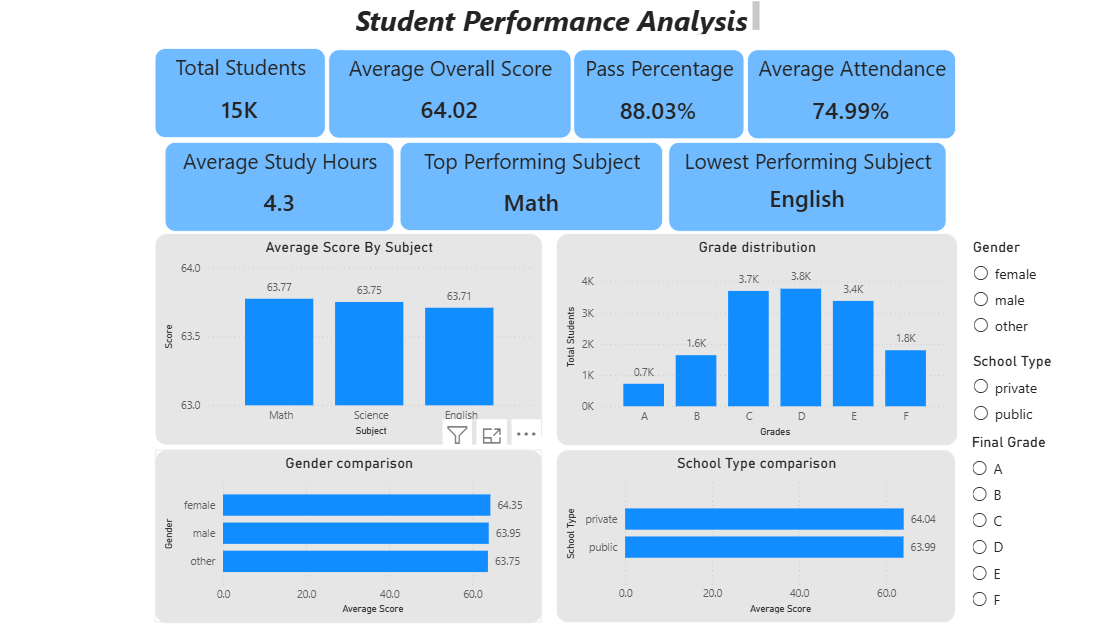

This screenshot's page, from the dashboard's own definition file:
{"tool":"powerbi","page":{"name":"Main Overview","canvas":[1280,720],"ordinal":0},"visuals":[{"type":"textbox","box":[402,0,476.1,47],"z":0},{"type":"group","id":"g1","title":"Group 1","box":[182,58,916,210],"z":1000},{"type":"cardVisual","title":"Total Students","fields":{"Data":["Student_Performance.Total_students"]},"box":[182,58,194.9,102.6],"z":1000,"group":"g1"},{"type":"cardVisual","title":"Average Overall Score","fields":{"Data":["Student_Performance.average_overall_score"]},"box":[380.3,59.2,277.4,101.4],"z":2000,"group":"g1"},{"type":"columnChart","title":"Average Score By Subject","fields":{"Y":["Student_Performance_pivot.average_subject_score"],"Category":["Student_Performance_pivot.subject"]},"box":[181.1,270,443.3,242.2],"z":2000},{"type":"cardVisual","title":"Pass Percentage","fields":{"Data":["Student_Performance.pass_percentage"]},"box":[661,59.2,194.9,102],"z":3000,"group":"g1"},{"type":"columnChart","title":"Grade distribution","fields":{"Category":["Student_Performance.final_grade"],"Y":["Student_Performance.Total_students"]},"box":[640,270,458.9,243.3],"z":3000},{"type":"cardVisual","title":"Average Attendance","fields":{"Data":["Student_Performance.average_attendance"]},"box":[859.3,59.2,238.7,102.6],"z":4000,"group":"g1"},{"type":"clusteredBarChart","title":"Gender comparison","fields":{"Category":["Student_Performance.gender"],"Y":["Student_Performance.average_overall_score"]},"box":[181.1,516.5,443.3,198.9],"z":4000},{"type":"cardVisual","title":"Average Study Hours","fields":{"Data":["Student_Performance.average_study_hours"]},"box":[193.7,165.4,262.4,102.6],"z":5000,"group":"g1"},{"type":"barChart","title":"School Type comparison","fields":{"Category":["Student_Performance.school_type"],"Y":["Student_Performance.average_overall_score"]},"box":[640,517.1,457.1,198.6],"z":5000},{"type":"cardVisual","title":"Top Performing Subject","fields":{"Data":["Student_Performance_pivot.Top Performing Subject"]},"box":[462.4,165.4,301.2,101.4],"z":6000,"group":"g1"},{"type":"listSlicer","title":"Gender","fields":{"Values":["Student_Performance.gender"]},"box":[1111.4,275.7,164.3,130],"z":6000},{"type":"cardVisual","title":"Lowest Performing Subject","fields":{"Data":["Student_Performance_pivot.Lowest Performing Subject"]},"box":[768.6,165.4,317.4,102.6],"z":7000,"group":"g1"},{"type":"listSlicer","title":"School Type","fields":{"Values":["Student_Performance.school_type"]},"box":[1110.9,405.7,164.3,107.1],"z":7000},{"type":"listSlicer","title":"Final Grade","fields":{"Values":["Student_Performance.final_grade"]},"box":[1110,498.6,164.3,217.1],"z":8000}]}

Visuals, with their boxes in screenshot pixels (x1, y1, x2, y2), scaled from the page's 1280x720 canvas onto the 1111x625 screenshot:
textbox: box(349, 0, 762, 41)
"Group 1" group: box(158, 50, 953, 233)
"Total Students" cardVisual: box(158, 50, 327, 139)
"Average Overall Score" cardVisual: box(330, 51, 571, 139)
"Average Score By Subject" columnChart: box(157, 234, 542, 445)
"Pass Percentage" cardVisual: box(574, 51, 743, 140)
"Grade distribution" columnChart: box(556, 234, 954, 446)
"Average Attendance" cardVisual: box(746, 51, 953, 140)
"Gender comparison" clusteredBarChart: box(157, 448, 542, 621)
"Average Study Hours" cardVisual: box(168, 144, 396, 233)
"School Type comparison" barChart: box(556, 449, 952, 621)
"Top Performing Subject" cardVisual: box(401, 144, 663, 232)
"Gender" listSlicer: box(965, 239, 1107, 352)
"Lowest Performing Subject" cardVisual: box(667, 144, 943, 233)
"School Type" listSlicer: box(964, 352, 1107, 445)
"Final Grade" listSlicer: box(963, 433, 1106, 621)
